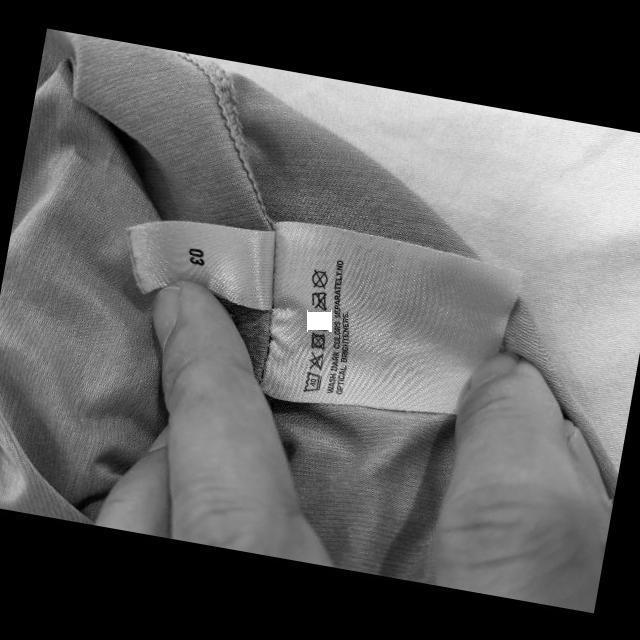40C: (302, 369, 322, 394)
DN_bleach: (306, 350, 326, 372)
DN_dry_clean: (308, 267, 329, 289)
DN_iron: (308, 288, 330, 311)
DN_tumble_dry: (308, 331, 328, 352)
